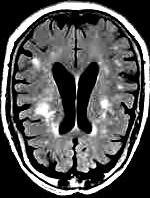Normal_Brain: (4, 1, 150, 198)
